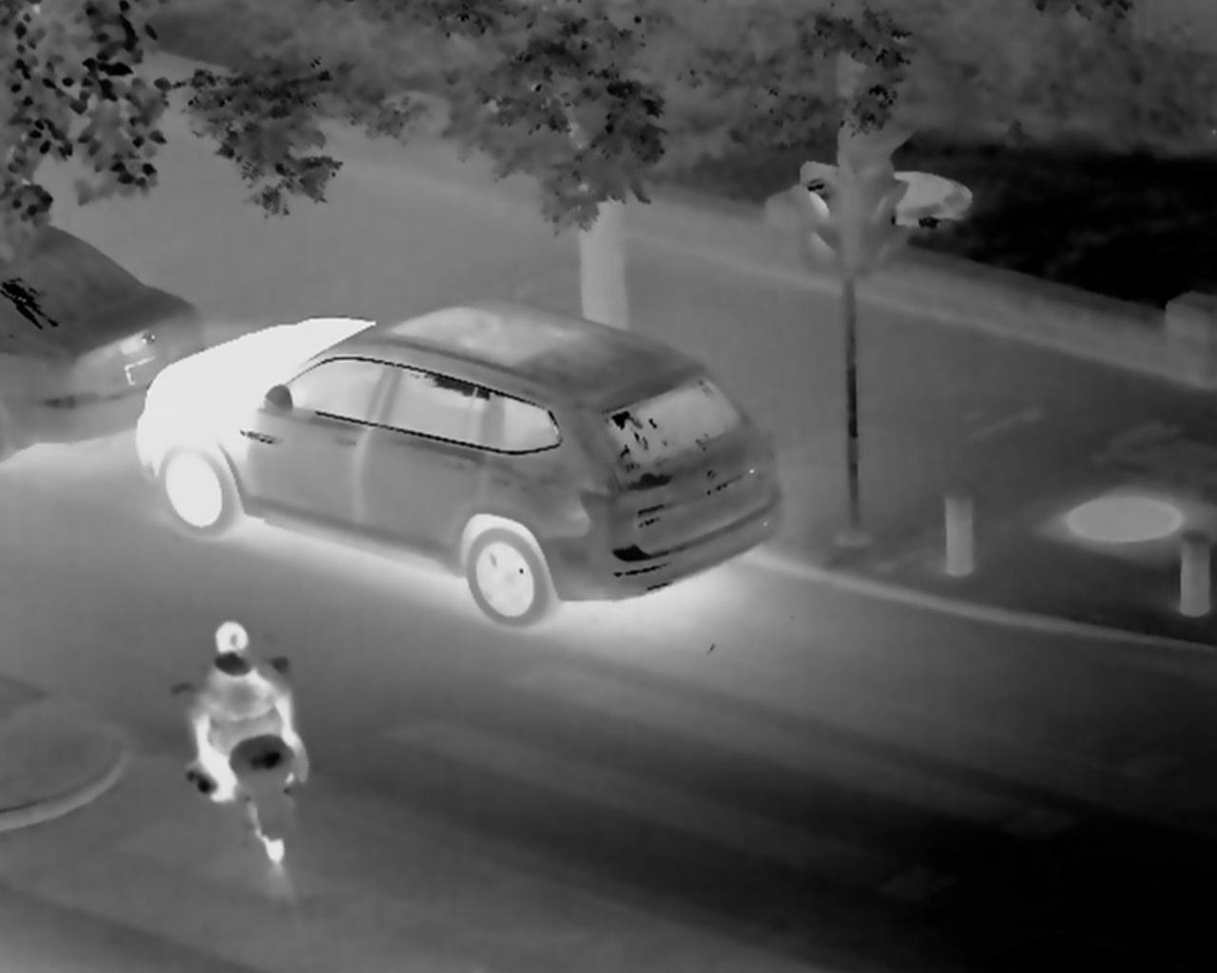person: (192, 616, 293, 791)
